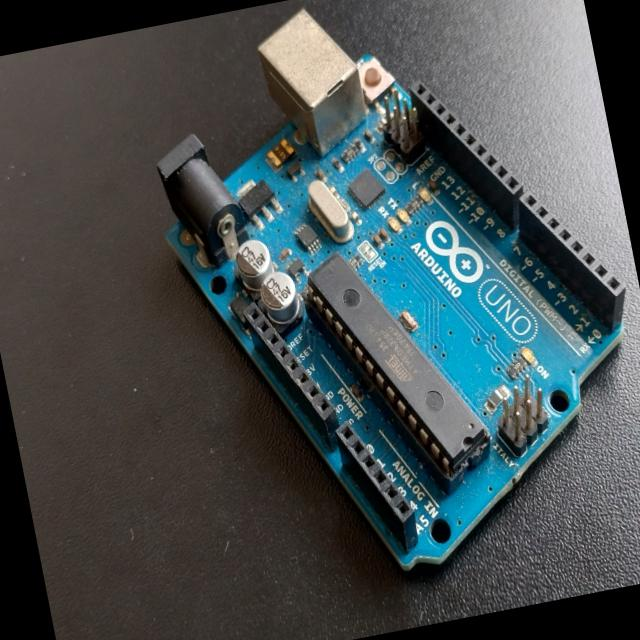arduino: (121, 0, 640, 622)
